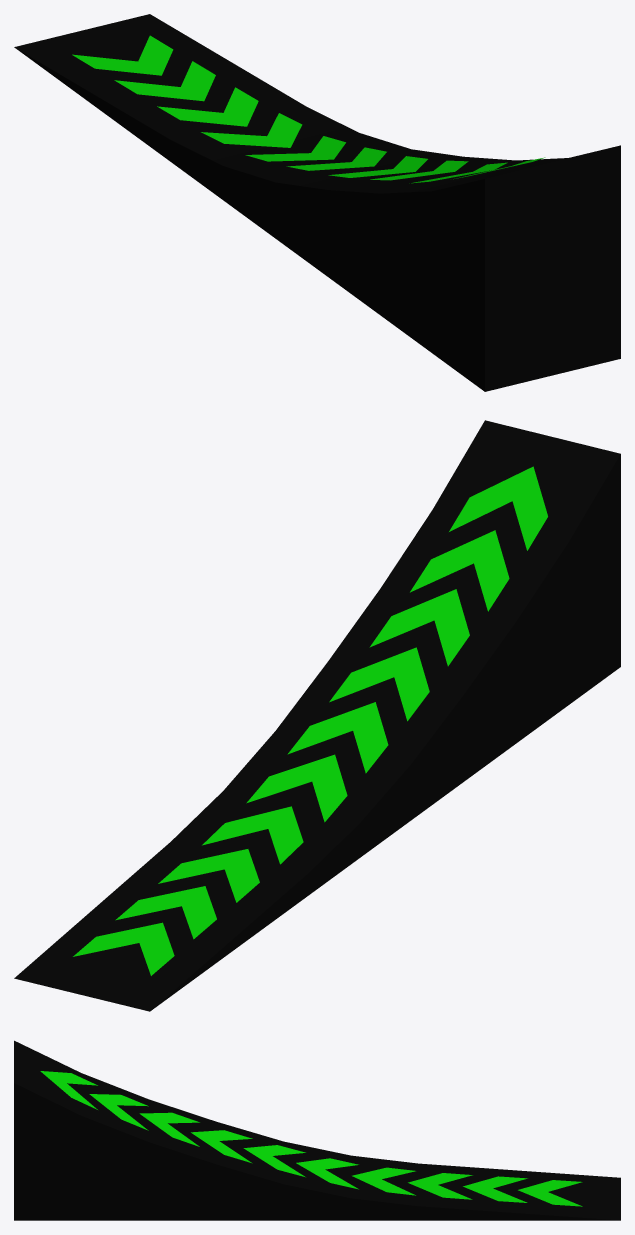
File: Lane-shared_stuntzone_18m_noAtlas.glb
The picture shows the model from 3 angles, top to bottom: view 1: azimuth 30°, elevation 25°; view 2: azimuth 150°, elevation 25°; view 3: azimuth 270°, elevation 25°; orthographic projection. The views are drawn at different scales.
Visible parts, largest first — view 1: Lane-shared_stuntzone_18m; view 2: Lane-shared_stuntzone_18m; view 3: Lane-shared_stuntzone_18m.
Part boxes in pixels (bbox=[...]): Lane-shared_stuntzone_18m: bbox=[14, 14, 620, 391]; Lane-shared_stuntzone_18m: bbox=[14, 420, 620, 1011]; Lane-shared_stuntzone_18m: bbox=[14, 1040, 620, 1220].
Size of the model in its own units: 3 by 4.5 by 18.
